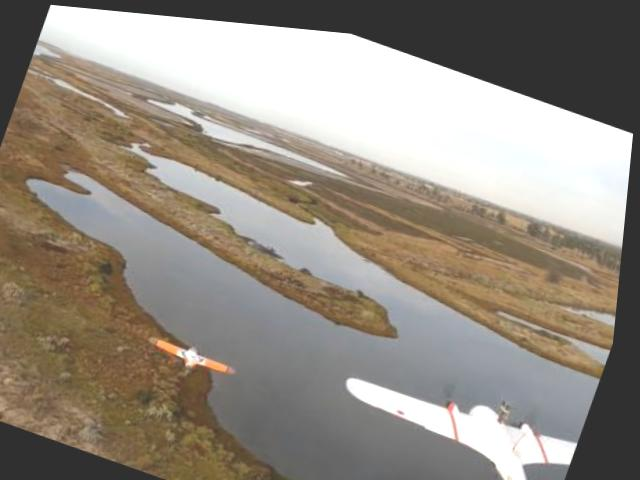uav: (318, 329, 597, 480), (145, 320, 248, 379)
